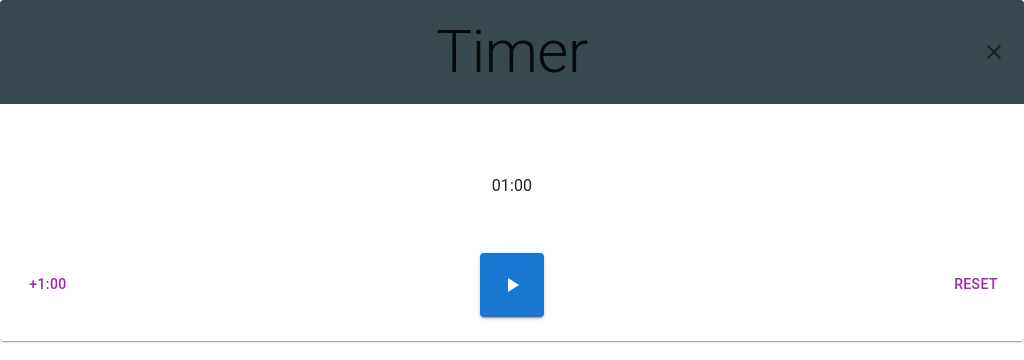
Test: Timer › add minute button › increases the timer duration and current value by one minute
This screenshot has width=1024, height=360.
Check: the text "01:00" is shown, box x1=492 y1=174 x2=532 y2=198
Click the button named "PLAY" at {"x": 512, "y": 284}, box x1=480 y1=252 x2=544 y2=316
Wait 16000 ms
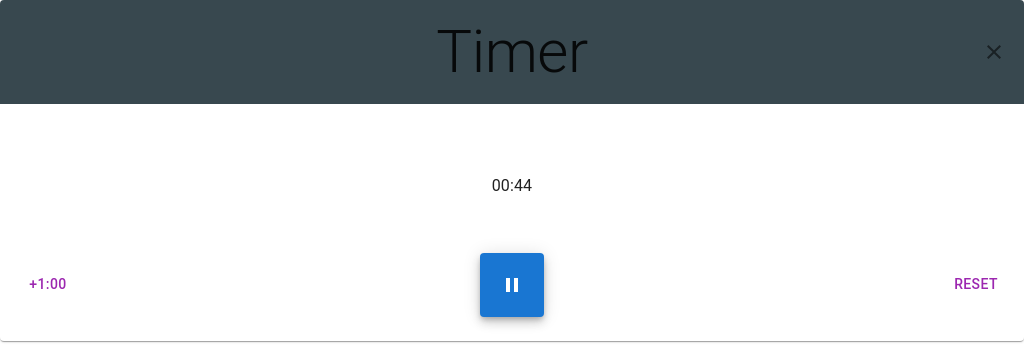
Check: the text "00:44" is shown, box x1=492 y1=174 x2=532 y2=198
Click the button "+1:00" at {"x": 48, "y": 284}, box x1=16 y1=252 x2=80 y2=316
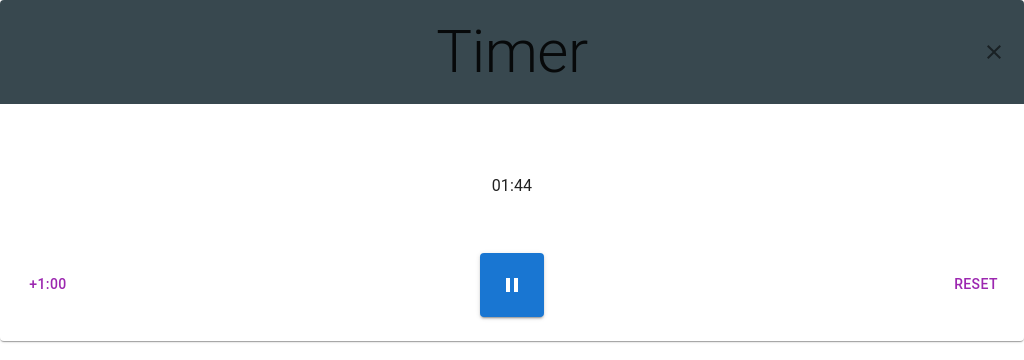
Check: the text "01:44" is shown, box x1=492 y1=174 x2=532 y2=198
Click the button "+1:00" at {"x": 48, "y": 284}, box x1=16 y1=252 x2=80 y2=316
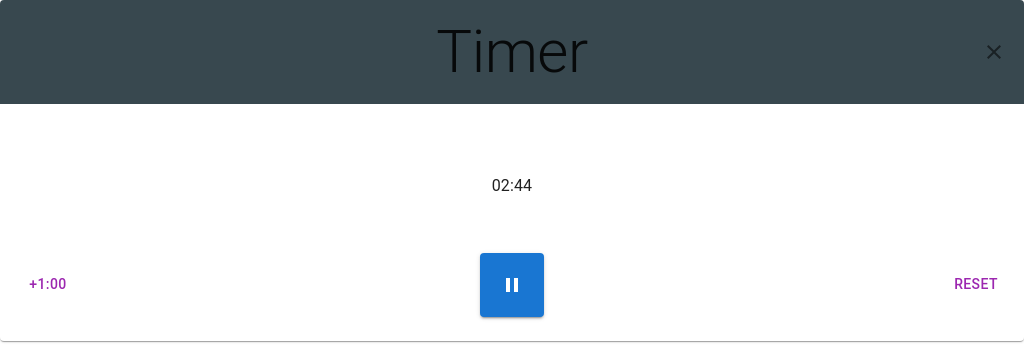
Check: the text "02:44" is shown, box x1=492 y1=174 x2=532 y2=198
Click the button "Reset" at {"x": 976, "y": 284}, box x1=944 y1=252 x2=1008 y2=316
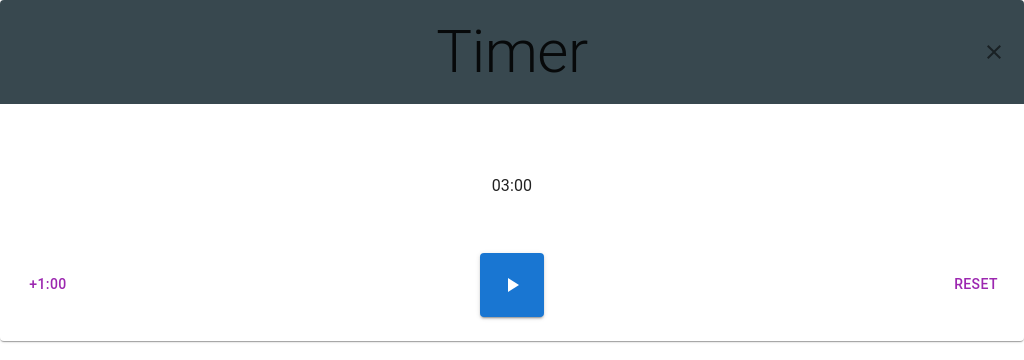
Check: the text "03:00" is shown, box x1=492 y1=174 x2=532 y2=198
